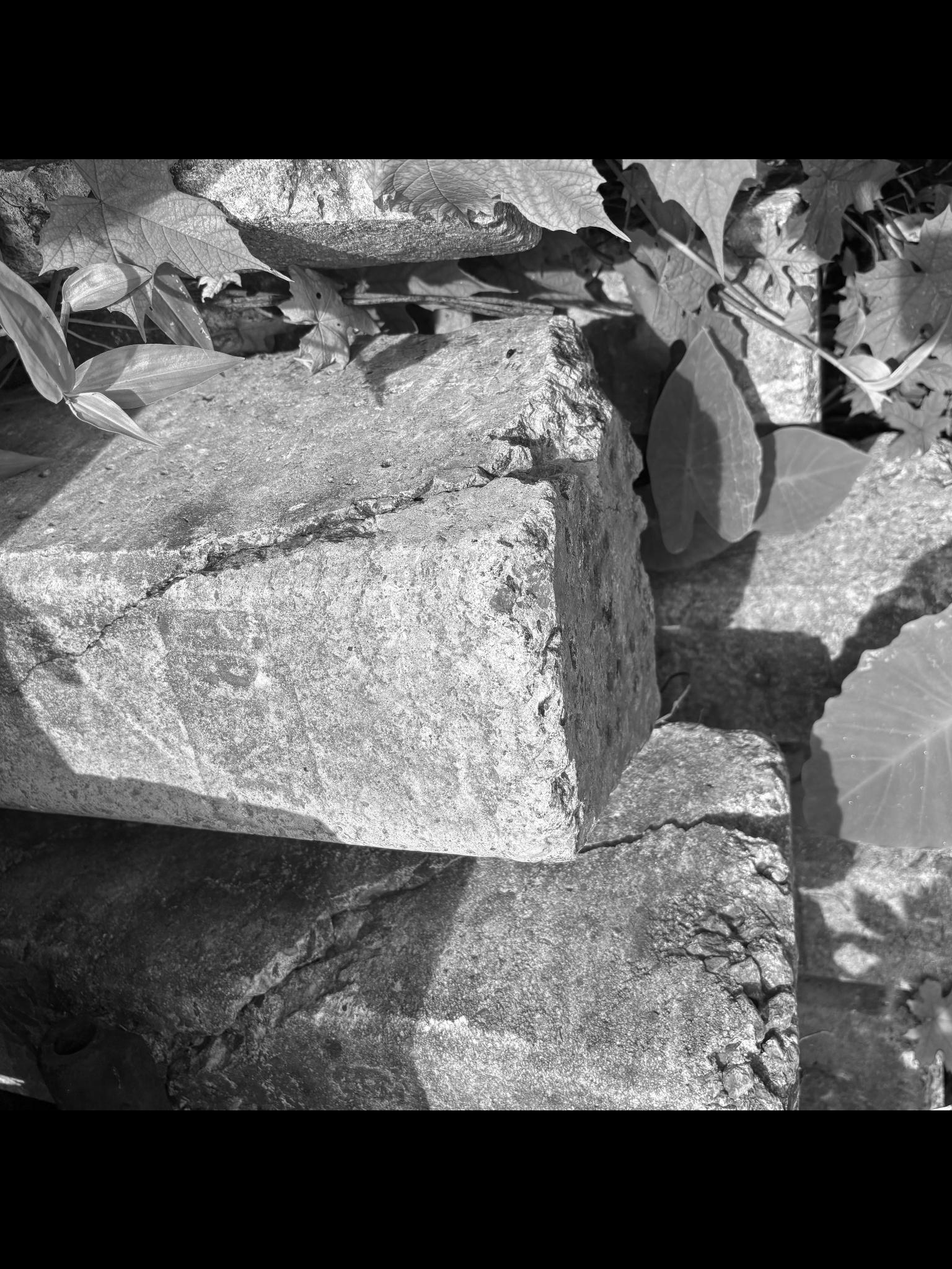cracks under rail seat: (98, 695, 843, 1120), (0, 369, 628, 730)
